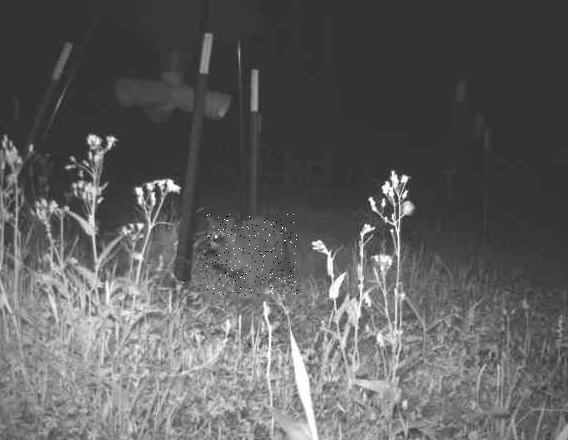Raccoon: (203, 215, 297, 297)
